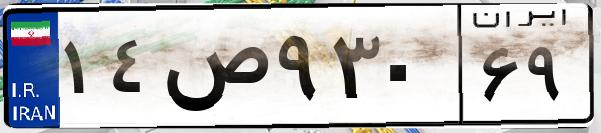0: (385, 28, 445, 110)
1: (57, 26, 110, 100)
3: (330, 28, 385, 110)
4: (110, 28, 158, 98)
6: (475, 38, 525, 113)
9: (270, 28, 330, 110), (525, 38, 570, 115)
ص: (158, 20, 270, 120)
